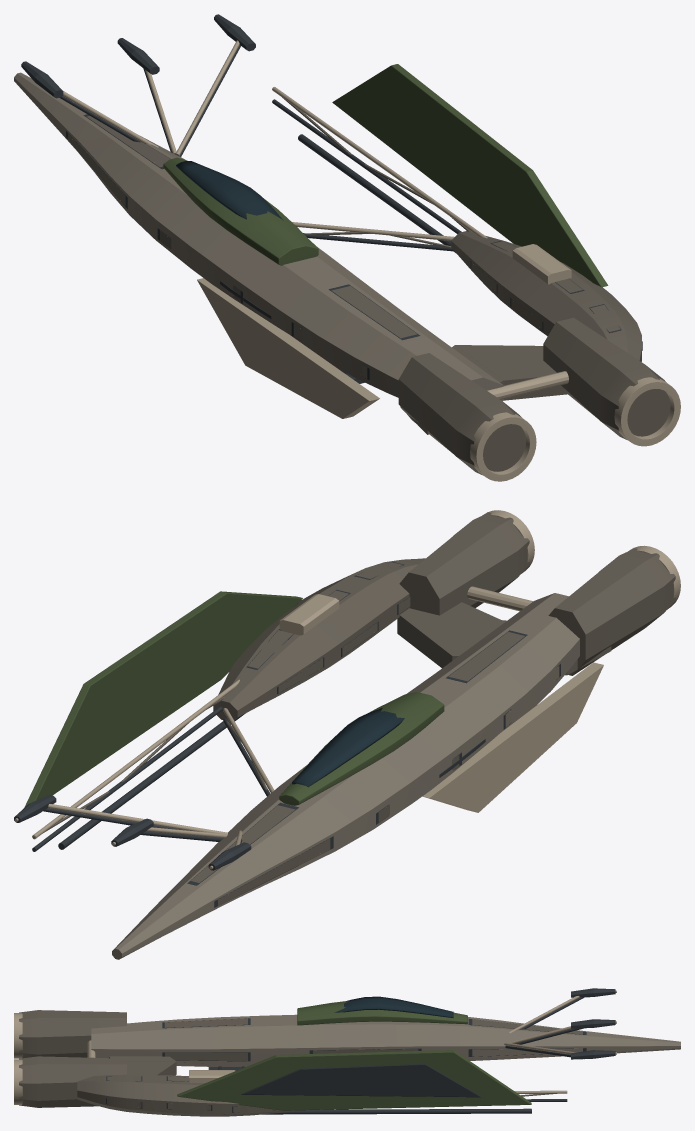
The model's file is destroyer_roaming_spear.glb.
The picture shows the model from 3 angles, top to bottom: view 1: azimuth 30°, elevation 25°; view 2: azimuth 150°, elevation 25°; view 3: azimuth 270°, elevation 25°; orthographic projection. The views are drawn at different scales.
Visible parts, largest first — view 1: v4_roaming_secondary, v4_roaming_hull, v4_roaming_paint, v4_roaming_trim, v4_roaming_dark, v4_roaming_glass; view 2: v4_roaming_secondary, v4_roaming_hull, v4_roaming_paint, v4_roaming_trim, v4_roaming_dark, v4_roaming_glass; view 3: v4_roaming_hull, v4_roaming_secondary, v4_roaming_paint, v4_roaming_ceramic, v4_roaming_dark, v4_roaming_trim, v4_roaming_glass.
Part boxes in pixels (bbox=[...]): v4_roaming_secondary: bbox=[62, 95, 670, 475]; v4_roaming_hull: bbox=[14, 72, 503, 400]; v4_roaming_paint: bbox=[163, 64, 608, 287]; v4_roaming_trim: bbox=[63, 40, 680, 481]; v4_roaming_dark: bbox=[21, 14, 642, 383]; v4_roaming_glass: bbox=[176, 160, 283, 220]; v4_roaming_secondary: bbox=[33, 512, 675, 905]; v4_roaming_hull: bbox=[112, 593, 579, 959]; v4_roaming_paint: bbox=[24, 591, 444, 807]; v4_roaming_trim: bbox=[14, 510, 680, 895]; v4_roaming_dark: bbox=[14, 561, 560, 907]; v4_roaming_glass: bbox=[292, 708, 404, 787]; v4_roaming_hull: bbox=[91, 1014, 680, 1066]; v4_roaming_secondary: bbox=[19, 999, 582, 1116]; v4_roaming_paint: bbox=[177, 1001, 531, 1110]; v4_roaming_ceramic: bbox=[218, 1063, 481, 1097]; v4_roaming_dark: bbox=[106, 988, 615, 1114]; v4_roaming_trim: bbox=[14, 990, 616, 1104]; v4_roaming_glass: bbox=[334, 996, 453, 1017].
Size of the model in its own units: 20.56 by 10.62 by 65.73.
